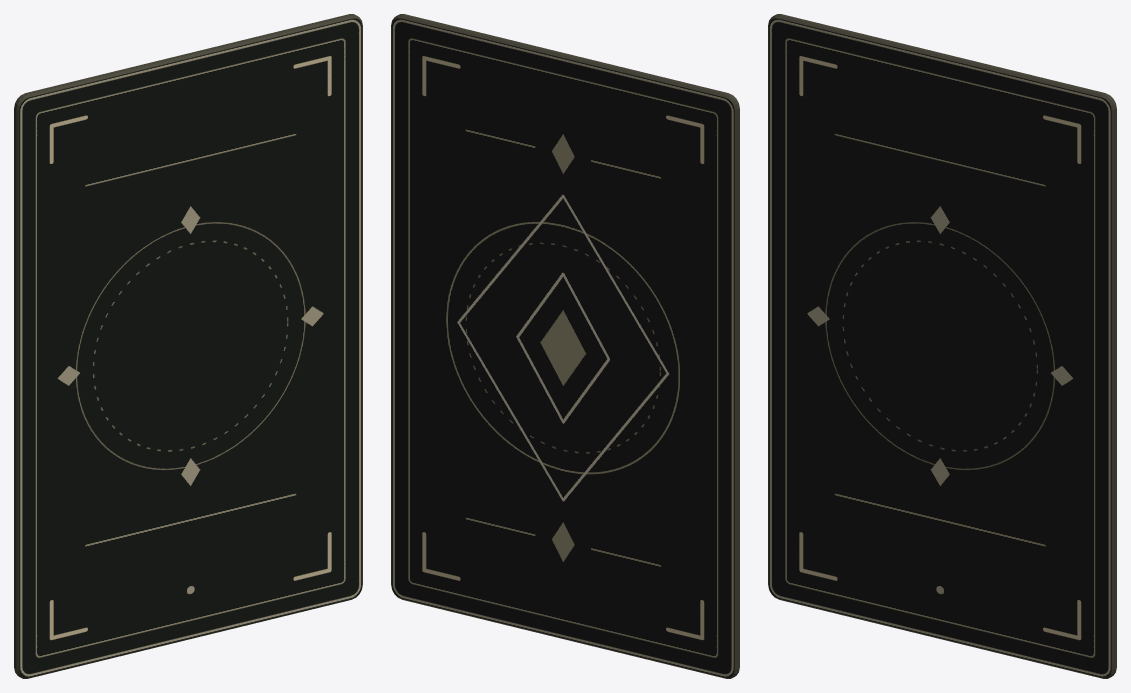
File: card.obj
The picture shows the model from 3 angles, left to right: view 1: azimuth 30°, elevation 25°; view 2: azimuth 150°, elevation 25°; view 3: azimuth 330°, elevation 25°; orthographic projection.
Visible parts, largest first — view 1: TarotCard; view 2: TarotCard; view 3: TarotCard.
Part boxes in pixels (x1,y1,x2,y2): TarotCard: (14, 14, 362, 678); TarotCard: (391, 14, 739, 678); TarotCard: (768, 14, 1116, 678).
Bounding box in the file's own units: 0.18 × 0.29 × 0.004.
Materials: 3 (2 with a texture image).
